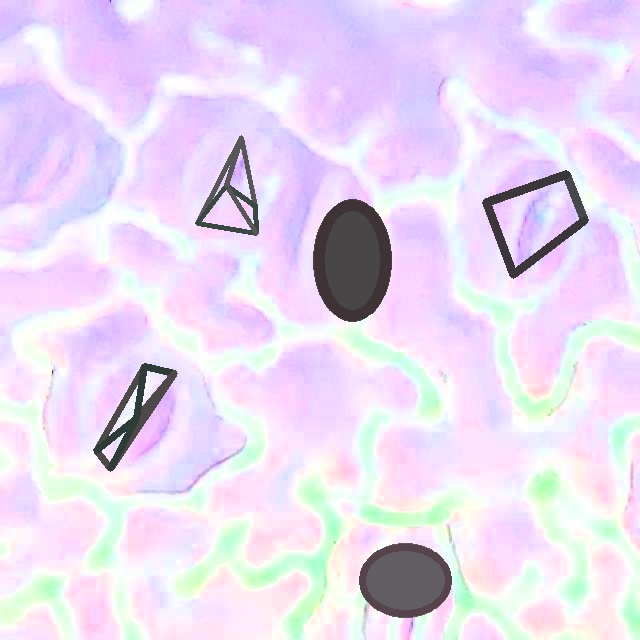close: (94, 364, 177, 471)
open: (482, 171, 587, 277), (313, 199, 391, 321), (360, 543, 450, 616), (195, 135, 257, 235)
